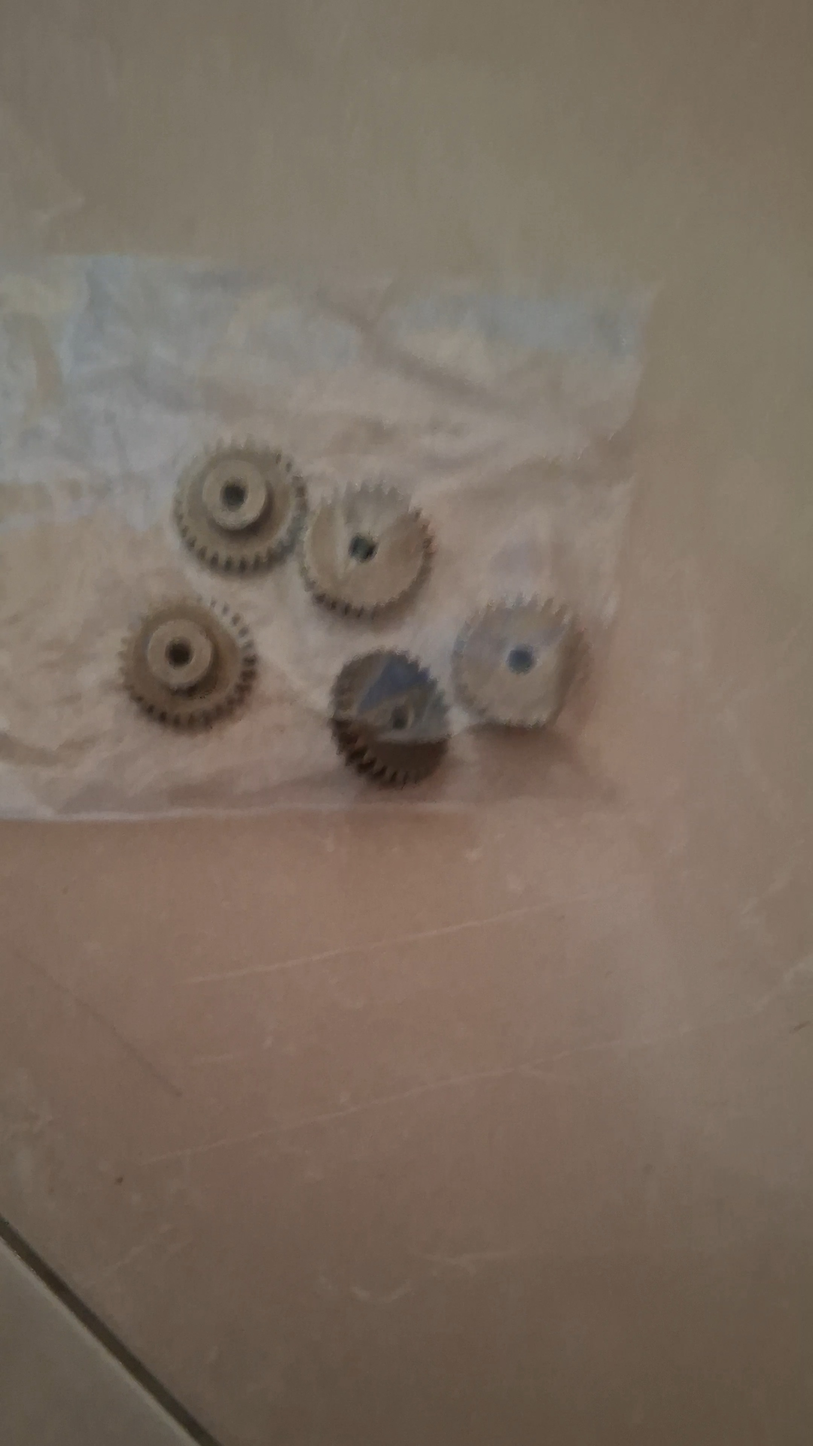spur gear: (300, 484, 431, 617), (122, 599, 256, 728), (174, 443, 306, 573), (331, 651, 449, 786), (453, 600, 577, 727)
